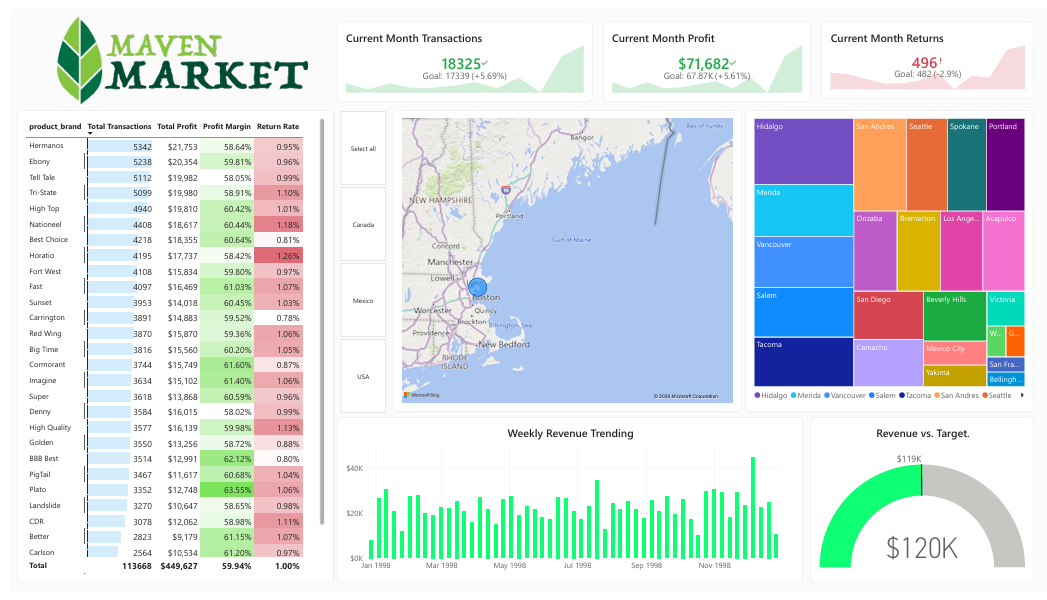

The dashboard page shown, as its layout file describes it:
{"tool":"powerbi","page":{"name":"Topline Performance","canvas":[1920,1080],"ordinal":0},"visuals":[{"type":"image","box":[0,0,632,186],"z":0},{"type":"pivotTable","fields":{"Rows":["Products.product_brand"],"Values":["_Measures.Total Transactions","_Measures.Total Profit","_Measures.Profit Margin","_Measures.Return Rate"]},"box":[12,186,586,876],"z":1},{"type":"kpi","title":"Current Month Transactions","fields":{"Goal":["_Measures.Last Month Transactions"],"Indicator":["_Measures.Total Transactions"],"TrendLine":["Calendar.Start of Month"]},"box":[604,22,474,148],"z":2},{"type":"kpi","title":"Current Month Profit","fields":{"Goal":["_Measures.Last Month Profit"],"Indicator":["_Measures.Total Profit"],"TrendLine":["Calendar.Start of Month"]},"box":[1097,22,386,148],"z":4},{"type":"kpi","title":"Current Month Returns","fields":{"Goal":["_Measures.Last Month Returns"],"Indicator":["_Measures.Total Returns"],"TrendLine":["Calendar.Start of Month"]},"box":[1502,22,394,142],"z":5},{"type":"map","fields":{"Category":["Stores.store_city"],"Size":["_Measures.Total Transactions"]},"box":[708,186,646,560],"z":6},{"type":"slicer","fields":{"Values":["Stores.store_country"]},"box":[590,186,124,564],"z":7},{"type":"treemap","fields":{"Group":["Stores.store_country","Stores.store_state","Stores.store_city"],"Values":["_Measures.Total Transactions"]},"box":[1360,186,536,560],"z":8},{"type":"clusteredColumnChart","title":"Weekly Revenue Trending","fields":{"Category":["Calendar.Start of Week"],"Y":["_Measures.Total Revenue"]},"box":[604,756,864,306],"z":9},{"type":"gauge","title":"Revenue vs. Target.","fields":{"TargetValue":["_Measures.Revenue Target"],"Y":["_Measures.Total Revenue"]},"box":[1482,756,414,306],"z":10}]}

Visuals, with their boxes in screenshot pixels (x1, y1, x2, y2), scaled from the page's 1920x1080 canvas onto the 1047x600 screenshot:
image: bbox=(0, 0, 345, 103)
pivotTable - Products.product_brand x _Measures.Total Transactions: bbox=(7, 103, 326, 590)
"Current Month Transactions" kpi: bbox=(329, 12, 588, 94)
"Current Month Profit" kpi: bbox=(598, 12, 809, 94)
"Current Month Returns" kpi: bbox=(819, 12, 1034, 91)
map - Stores.store_city x _Measures.Total Transactions: bbox=(386, 103, 738, 414)
slicer - Stores.store_country: bbox=(322, 103, 389, 417)
treemap - Stores.store_country x Stores.store_state: bbox=(742, 103, 1034, 414)
"Weekly Revenue Trending" clusteredColumnChart: bbox=(329, 420, 801, 590)
"Revenue vs. Target." gauge: bbox=(808, 420, 1034, 590)
